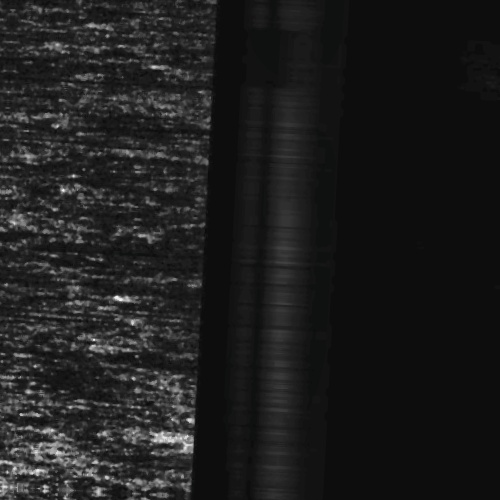shadow: (0, 207, 55, 212)
